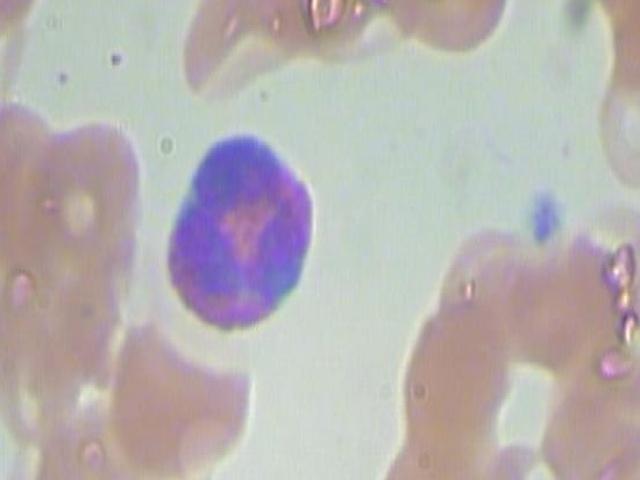Platelets: (512, 179, 566, 244)
RBC: (96, 318, 268, 480), (393, 284, 510, 459), (28, 104, 149, 270), (0, 263, 84, 438), (533, 357, 640, 480), (166, 0, 294, 99), (581, 30, 640, 194), (384, 0, 521, 66), (365, 424, 482, 480), (0, 0, 44, 138), (145, 455, 262, 480), (0, 0, 44, 64)
WBC: (156, 115, 338, 354)
